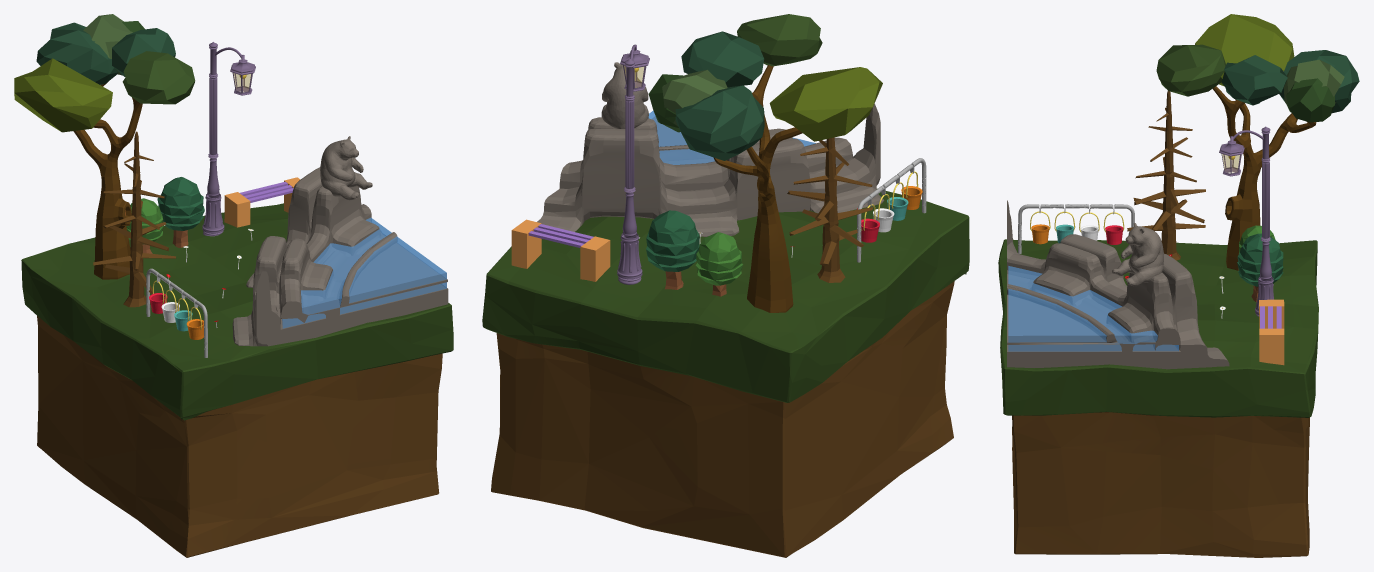
File: L3.min.gltf
3 views of the same model, side by side, from view 1: azimuth 30°, elevation 25°; view 2: azimuth 150°, elevation 25°; view 3: azimuth 270°, elevation 25° (orthographic). The views are drawn at different scales.
Visible parts, largest first — view 1: CENTERED.015; view 2: CENTERED.015; view 3: CENTERED.015.
Boxes of the visible parts, x1,y1,x2,y2 form: CENTERED.015: (14, 14, 453, 557); CENTERED.015: (482, 14, 969, 557); CENTERED.015: (998, 14, 1359, 557).
Bounding box in the file's own units: 1.22 × 1.56 × 1.22.
